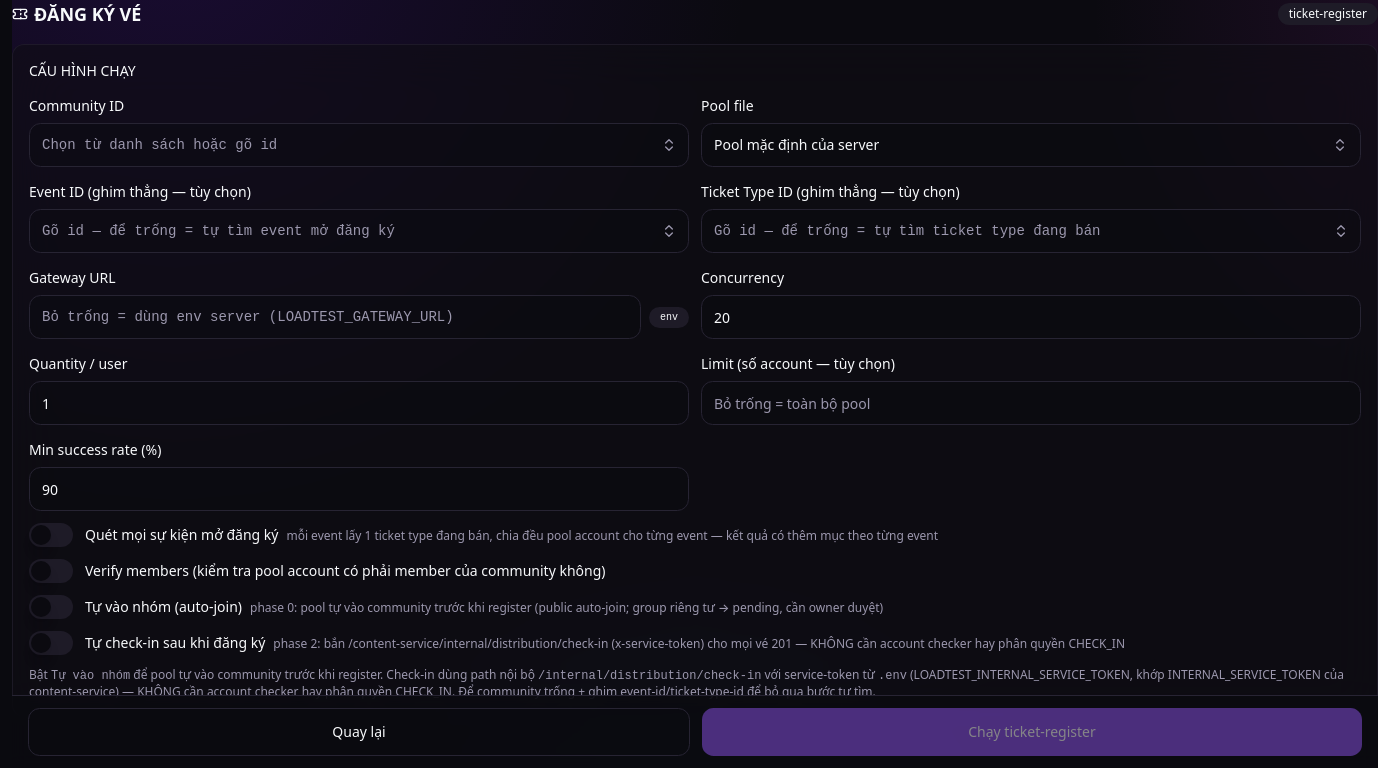
Test case: TicketRegisterPage › nhập community-id + chạy → gọi API đúng body + hiển thị PASS và số liệu
The width and height of the screenshot is (1378, 768).
Type "cmty-1" into the field labelled "Community ID" at (359, 145), box [29,123,689,167]
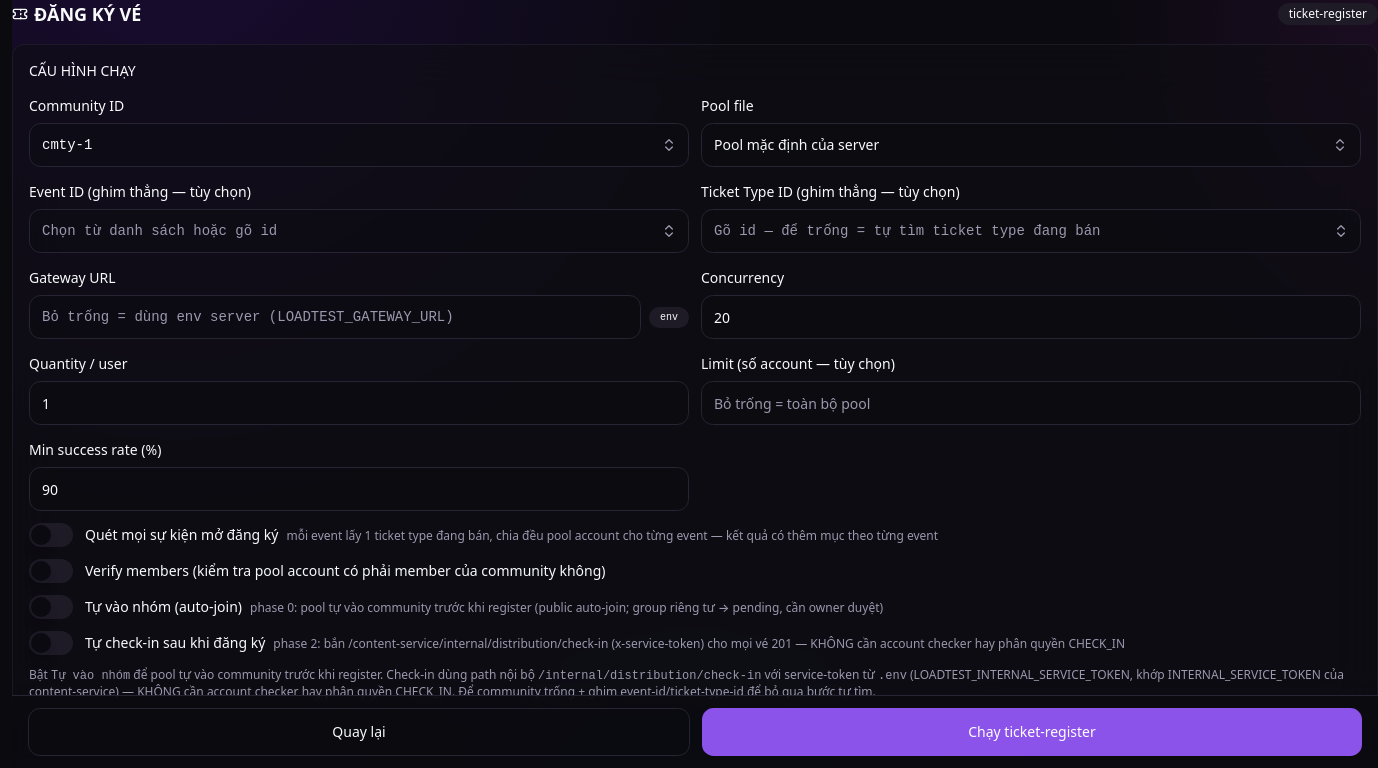
Expected: the button "Chạy ticket-register" is enabled
Click the button "Chạy ticket-register" at (1032, 732), box [702,708,1362,756]
(page scrolled)
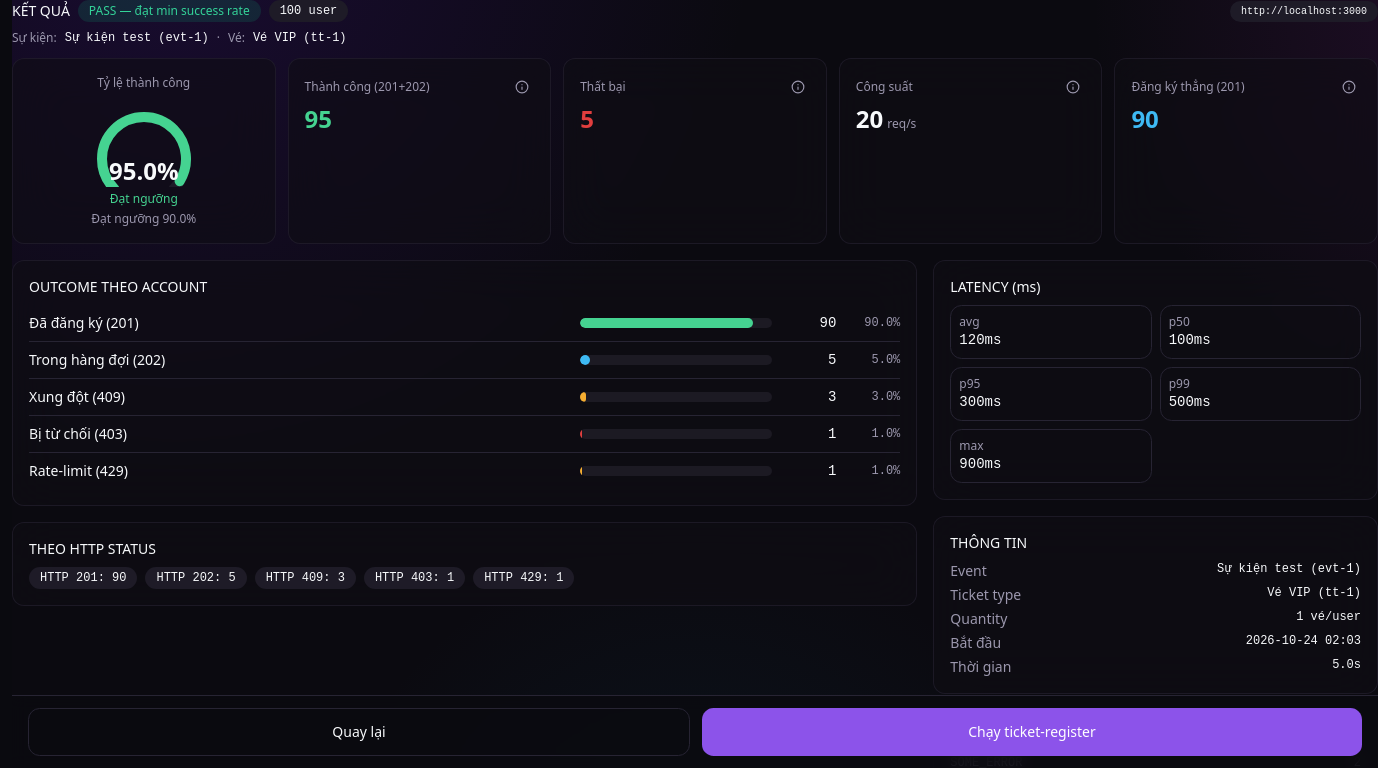
Expected: the text "PASS — đạt min success rate" is shown, [78,0,261,22]
Expected: the text "95.0%" is shown, [109,155,179,187]
Expected: the text "Đã đăng ký (201)" is shown, [29,313,139,332]
